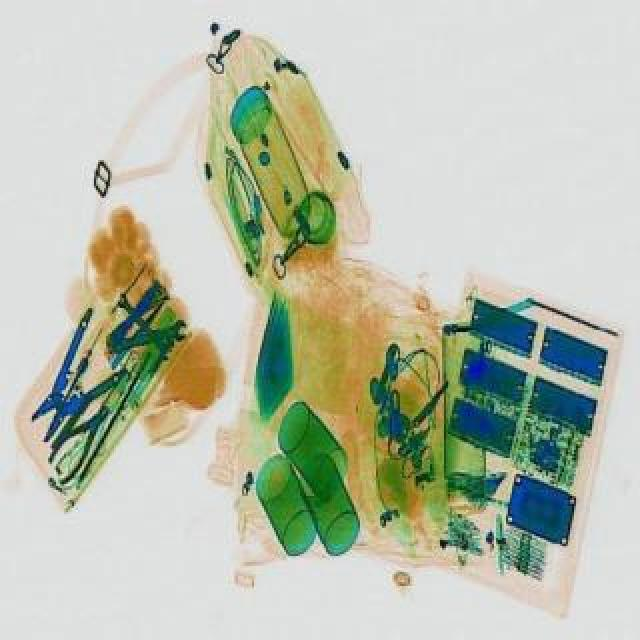scissors: (110, 290, 174, 360), (102, 314, 190, 356)
wrench: (0, 304, 148, 452), (36, 394, 120, 482)
